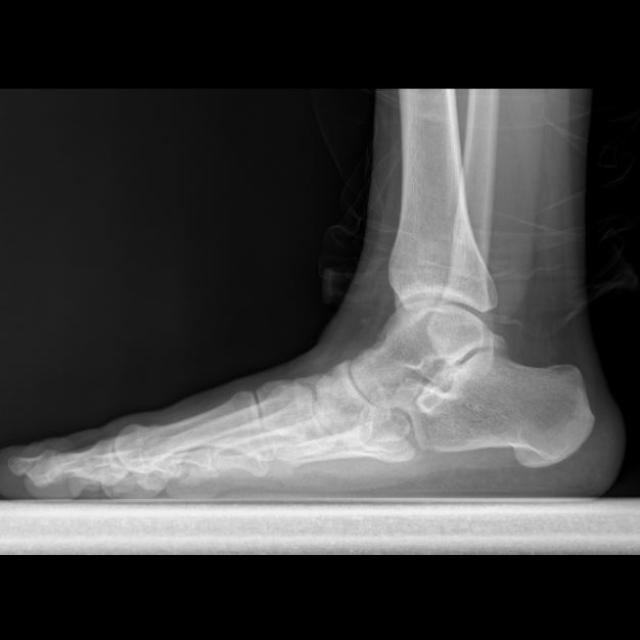a: (406, 346, 595, 468)
b: (316, 360, 392, 437)
c: (117, 391, 269, 473)
